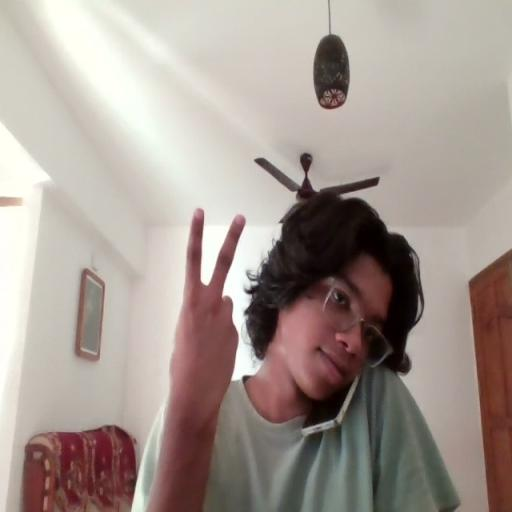scissor: (168, 208, 248, 402)
